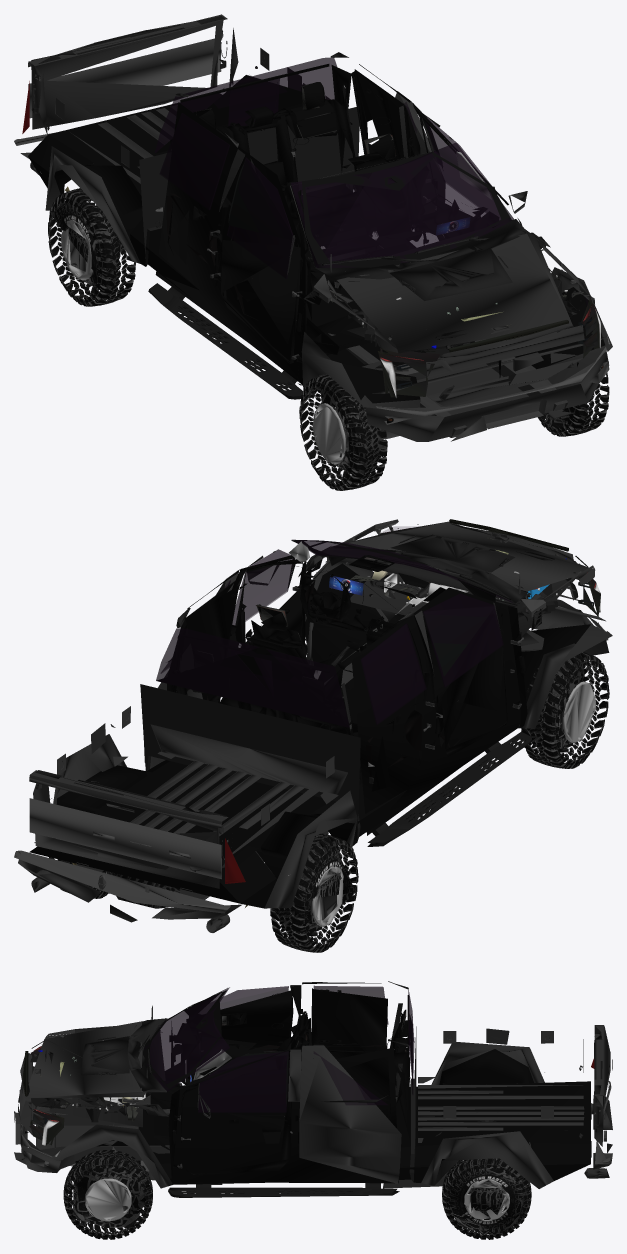
File: raptor.glb
3 renders of one model, top to bottom at view 1: azimuth 30°, elevation 25°; view 2: azimuth 150°, elevation 25°; view 3: azimuth 270°, elevation 25°, orthographic. The views are drawn at different scales.
Parts seen in each view (by area): view 1: Object_152, Object_211, Object_33, Object_21, Object_450, Object_11, Object_41, Object_182, Object_270, Object_454, Object_140, Object_50 (+2 smaller); view 2: Object_152, Object_211, Object_21, Object_33, Object_450, Object_182, Object_41, Object_11, Object_140, Object_454, Object_270, Object_208 (+4 smaller); view 3: Object_152, Object_33, Object_21, Object_211, Object_450, Object_41, Object_140, Object_454, Object_208, Object_11, Object_270, Object_149 (+4 smaller).
Boxes of the visible parts, x1,y1,x2,y2 form: Object_152: (20, 16, 612, 441); Object_211: (154, 57, 513, 278); Object_33: (28, 14, 606, 393); Object_21: (155, 102, 522, 385); Object_450: (48, 185, 609, 490); Object_11: (170, 82, 459, 291); Object_41: (166, 65, 499, 354); Object_182: (14, 38, 609, 424); Object_270: (22, 66, 609, 397); Object_454: (61, 219, 347, 464); Object_140: (313, 229, 594, 360); Object_50: (284, 195, 413, 355); Object_152: (18, 527, 612, 932); Object_211: (156, 539, 513, 727); Object_21: (297, 555, 527, 835); Object_33: (29, 521, 605, 888); Object_450: (49, 638, 609, 952); Object_182: (14, 622, 608, 913); Object_41: (171, 541, 503, 777); Object_11: (171, 570, 417, 766); Object_140: (314, 519, 595, 636); Object_454: (310, 681, 595, 926); Object_270: (225, 528, 600, 883); Object_208: (76, 623, 565, 908); Object_152: (14, 981, 612, 1197); Object_33: (24, 982, 612, 1183); Object_21: (168, 1012, 398, 1184); Object_211: (144, 985, 414, 1112); Object_450: (63, 1083, 531, 1239); Object_41: (160, 989, 409, 1157); Object_140: (27, 1026, 150, 1127); Object_454: (85, 1178, 509, 1221); Object_208: (21, 1103, 591, 1188); Object_11: (214, 1009, 410, 1117); Object_270: (29, 1013, 594, 1156); Object_149: (443, 1031, 567, 1130).
Size of the model in its own units: 2.36 by 1.98 by 5.83.
29 materials, 22 textured.
